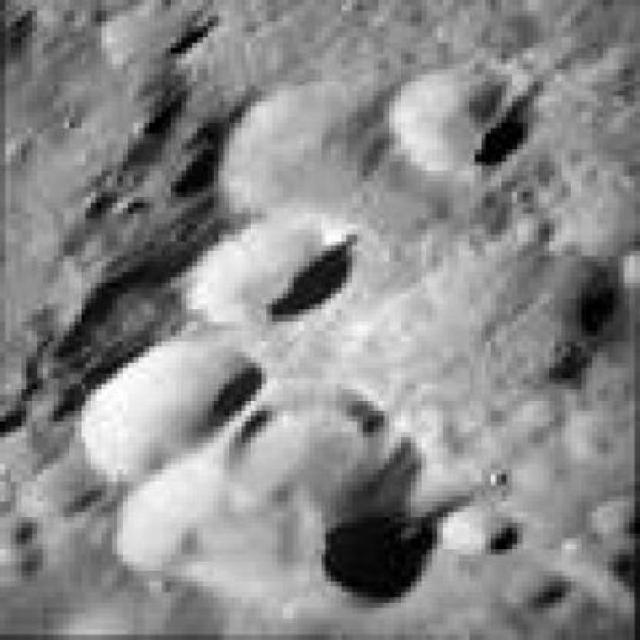crater: (114, 372, 434, 612), (80, 340, 262, 478), (191, 212, 358, 325), (389, 60, 540, 175)
